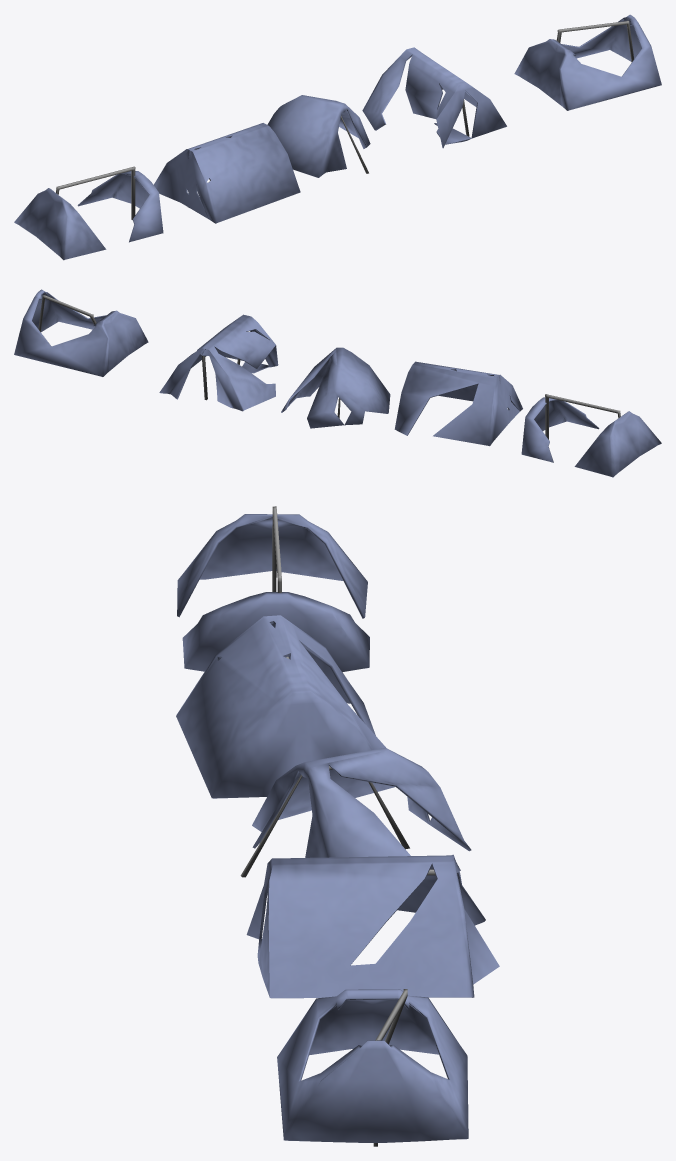
The model's file is DamagedTents_LightBlue.obj.
3 renders of one model, top to bottom at view 1: azimuth 30°, elevation 25°; view 2: azimuth 150°, elevation 25°; view 3: azimuth 270°, elevation 25°, orthographic. The views are drawn at different scales.
Parts seen in each view (by area): view 1: DamagedTent_Base.003_Material, DamagedTent_Base_Material, DamagedTent_Base.001_Material, DamagedTent_Base.004_Material, DamagedTent_Base.002_Material, Tent_SupportBar.009_Material.159, Tent_SupportBar.005_Material.159; view 2: DamagedTent_Base.003_Material, DamagedTent_Base_Material, DamagedTent_Base.001_Material, DamagedTent_Base.004_Material, DamagedTent_Base.002_Material, Tent_SupportBar.009_Material.159, Tent_SupportBar.005_Material.159; view 3: DamagedTent_Base.001_Material, DamagedTent_Base_Material, DamagedTent_Base.003_Material, DamagedTent_Base.004_Material, DamagedTent_Base.002_Material, Tent_SupportBar.007_Material.159.
Boxes of the visible parts, x1=… form: DamagedTent_Base.003_Material: x1=154, y1=123, x2=300, y2=223; DamagedTent_Base_Material: x1=514, y1=14, x2=661, y2=110; DamagedTent_Base.001_Material: x1=362, y1=47, x2=506, y2=148; DamagedTent_Base.004_Material: x1=14, y1=171, x2=163, y2=260; DamagedTent_Base.002_Material: x1=267, y1=95, x2=370, y2=177; Tent_SupportBar.009_Material.159: x1=56, y1=166, x2=135, y2=219; Tent_SupportBar.005_Material.159: x1=556, y1=20, x2=633, y2=62; DamagedTent_Base.003_Material: x1=394, y1=361, x2=522, y2=446; DamagedTent_Base_Material: x1=14, y1=289, x2=148, y2=376; DamagedTent_Base.001_Material: x1=159, y1=314, x2=278, y2=411; DamagedTent_Base.004_Material: x1=521, y1=397, x2=661, y2=477; DamagedTent_Base.002_Material: x1=281, y1=347, x2=390, y2=428; Tent_SupportBar.009_Material.159: x1=545, y1=394, x2=620, y2=439; Tent_SupportBar.005_Material.159: x1=38, y1=295, x2=96, y2=331; DamagedTent_Base.001_Material: x1=246, y1=854, x2=499, y2=998; DamagedTent_Base_Material: x1=277, y1=989, x2=468, y2=1142; DamagedTent_Base.003_Material: x1=176, y1=615, x2=385, y2=798; DamagedTent_Base.004_Material: x1=177, y1=514, x2=369, y2=671; DamagedTent_Base.002_Material: x1=252, y1=747, x2=471, y2=857; Tent_SupportBar.007_Material.159: x1=240, y1=766, x2=409, y2=877.
Size of the model in its own units: 14.53 by 1.29 by 3.5.
